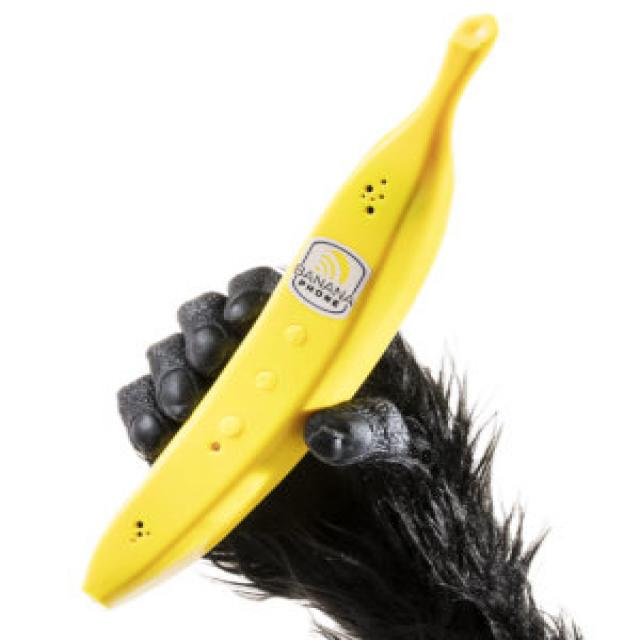hand: (113, 261, 579, 640)
